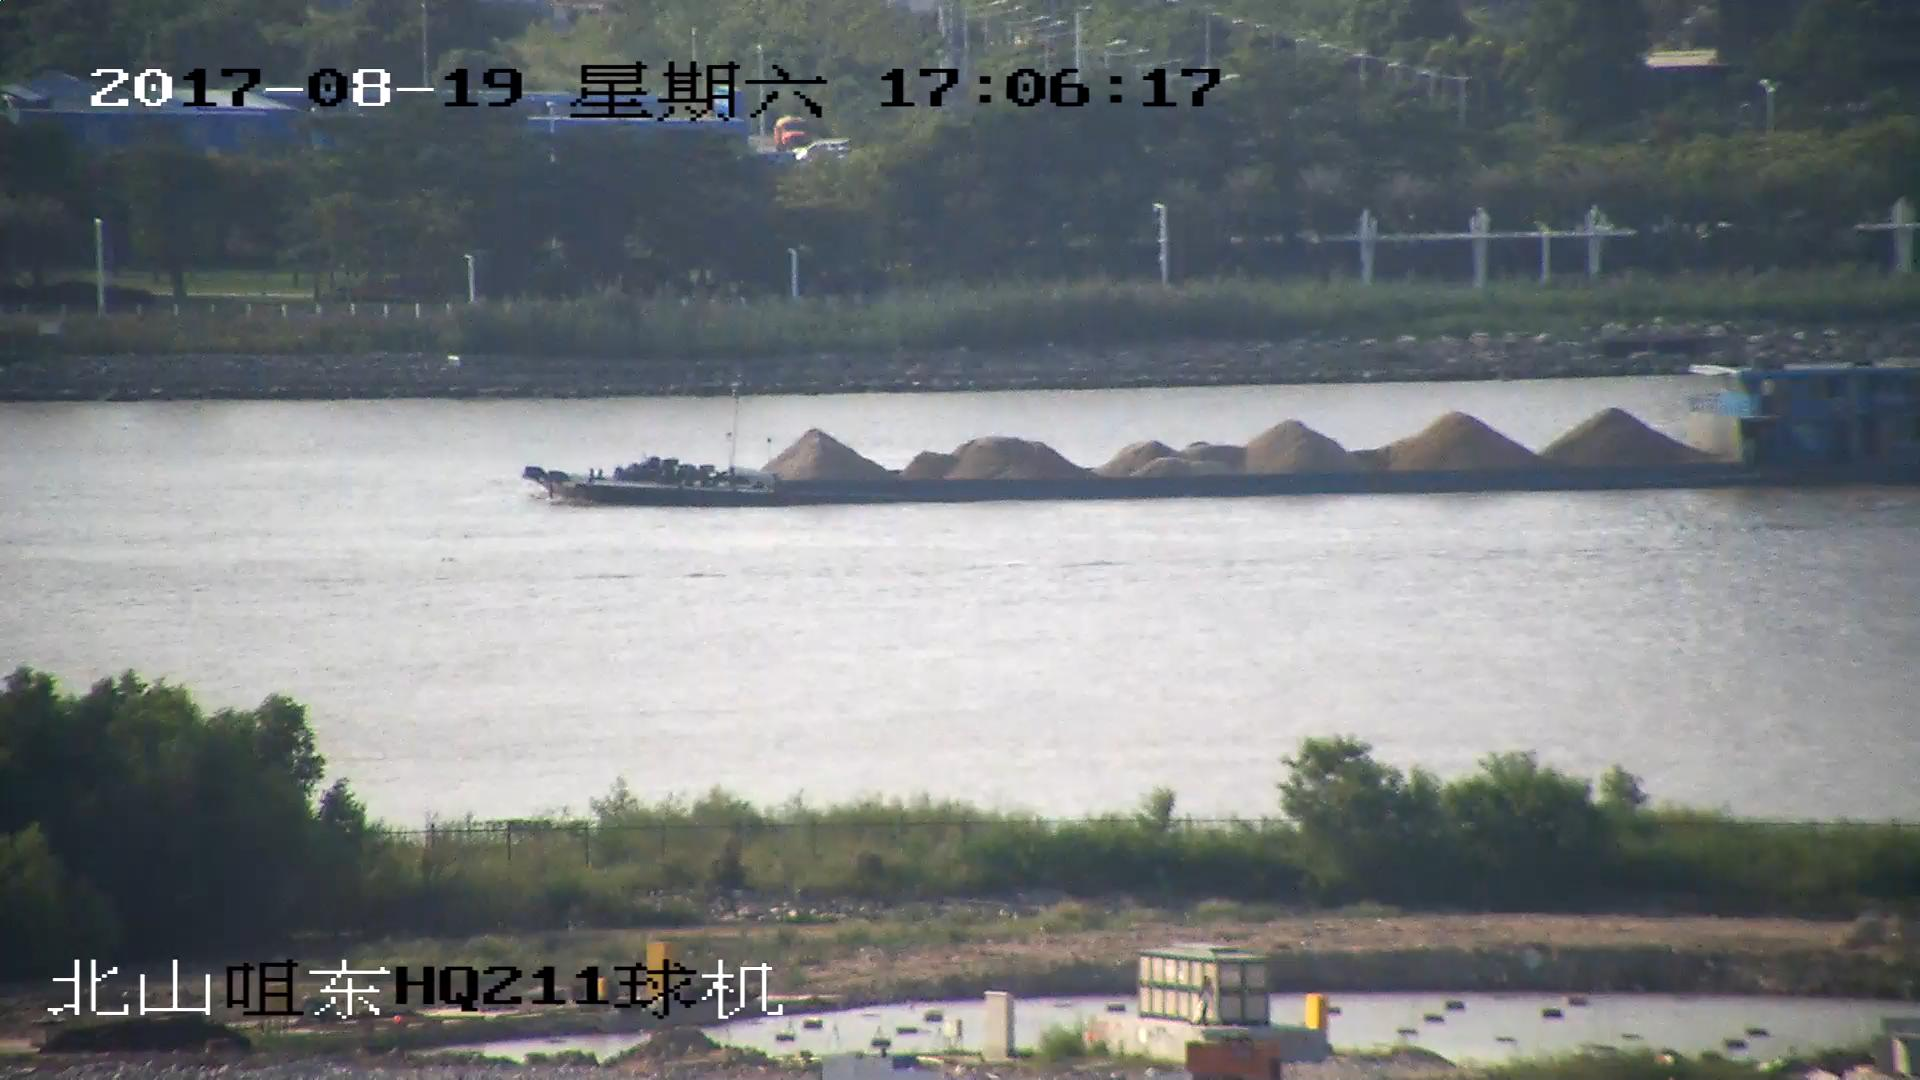ore carrier: (526, 368, 1920, 506)
